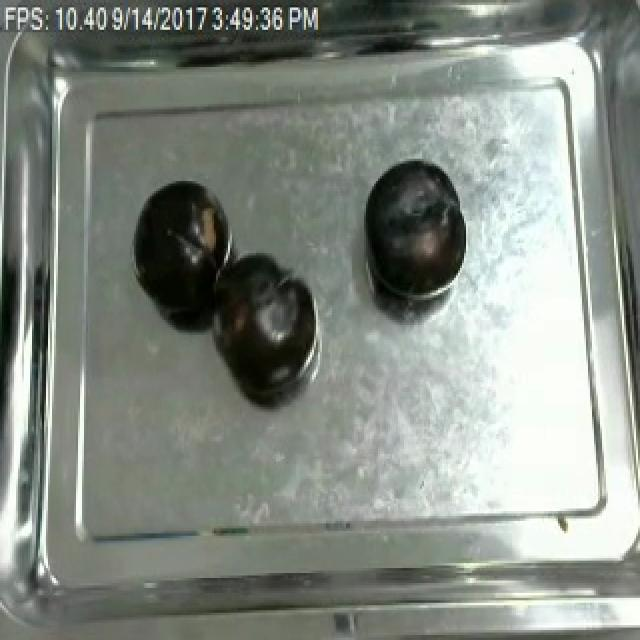Fruit: (358, 154, 468, 305), (210, 248, 314, 397), (130, 174, 224, 325)
